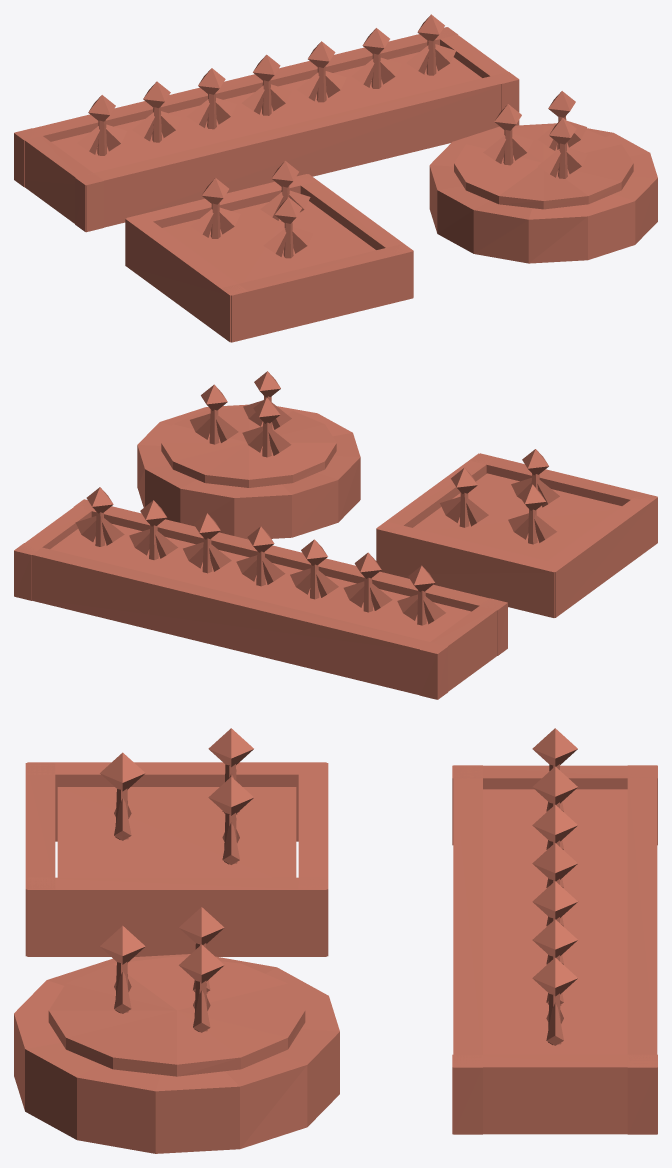
File: Flower-beds.glb
The picture shows the model from 3 angles, top to bottom: view 1: azimuth 30°, elevation 25°; view 2: azimuth 150°, elevation 25°; view 3: azimuth 270°, elevation 25°; orthographic projection. The views are drawn at different scales.
Parts seen in each view (by area): view 1: flower-beds-static-flower-beds-pale-stone-edging, flower-beds-static-flower-beds-dark-soil, flower-beds-static-flower-beds-muted-green-foliage, flower-beds-static-flower-beds-cream-blooms, flower-beds-static-flower-beds-muted-coral-blooms; view 2: flower-beds-static-flower-beds-pale-stone-edging, flower-beds-static-flower-beds-dark-soil, flower-beds-static-flower-beds-muted-green-foliage, flower-beds-static-flower-beds-cream-blooms, flower-beds-static-flower-beds-muted-coral-blooms; view 3: flower-beds-static-flower-beds-pale-stone-edging, flower-beds-static-flower-beds-dark-soil, flower-beds-static-flower-beds-cream-blooms, flower-beds-static-flower-beds-muted-coral-blooms, flower-beds-static-flower-beds-muted-green-foliage.
Boxes of the visible parts, <box> form: flower-beds-static-flower-beds-pale-stone-edging: <box>14,27,657,342</box>; flower-beds-static-flower-beds-dark-soil: <box>51,52,633,283</box>; flower-beds-static-flower-beds-muted-green-foliage: <box>77,39,587,258</box>; flower-beds-static-flower-beds-cream-blooms: <box>143,28,575,204</box>; flower-beds-static-flower-beds-muted-coral-blooms: <box>88,14,576,223</box>; flower-beds-static-flower-beds-pale-stone-edging: <box>14,404,657,699</box>; flower-beds-static-flower-beds-dark-soil: <box>50,406,621,641</box>; flower-beds-static-flower-beds-muted-green-foliage: <box>75,396,559,625</box>; flower-beds-static-flower-beds-cream-blooms: <box>140,384,545,578</box>; flower-beds-static-flower-beds-muted-coral-blooms: <box>86,371,548,591</box>; flower-beds-static-flower-beds-pale-stone-edging: <box>14,762,657,1153</box>; flower-beds-static-flower-beds-dark-soil: <box>48,787,627,1076</box>; flower-beds-static-flower-beds-cream-blooms: <box>179,728,577,983</box>; flower-beds-static-flower-beds-muted-coral-blooms: <box>100,728,577,996</box>; flower-beds-static-flower-beds-muted-green-foliage: <box>114,764,563,1045</box>.
Bounding box in the file's own units: 4.66 × 1.07 × 3.92.
